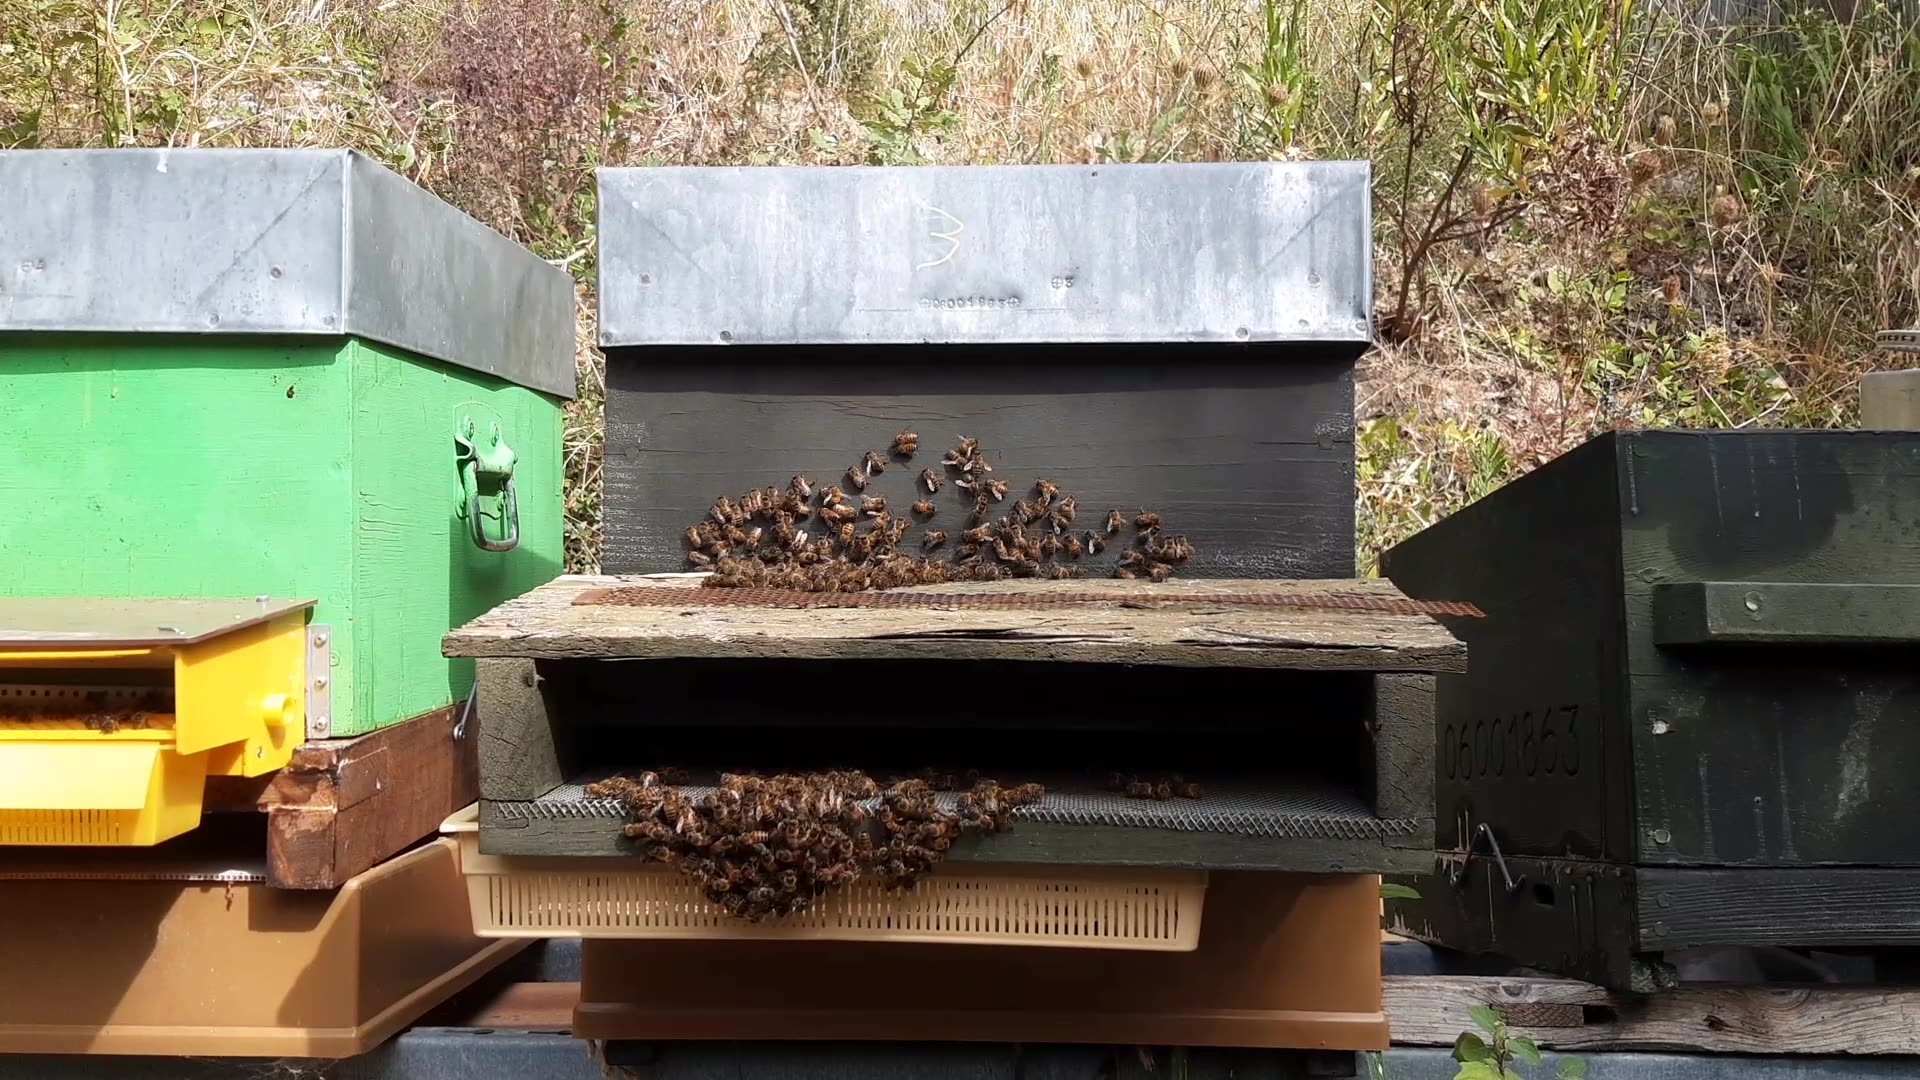bee: (591, 775, 688, 839), (728, 866, 808, 939), (942, 524, 1018, 596), (837, 529, 916, 593), (1100, 514, 1180, 572), (673, 868, 742, 922), (765, 786, 825, 841), (1010, 516, 1075, 564), (1375, 294, 1425, 356), (942, 463, 1007, 506), (731, 517, 793, 563), (864, 456, 926, 501), (767, 487, 823, 527), (1005, 493, 1058, 535), (898, 429, 948, 472)
hornet: (1098, 779, 1199, 818)
